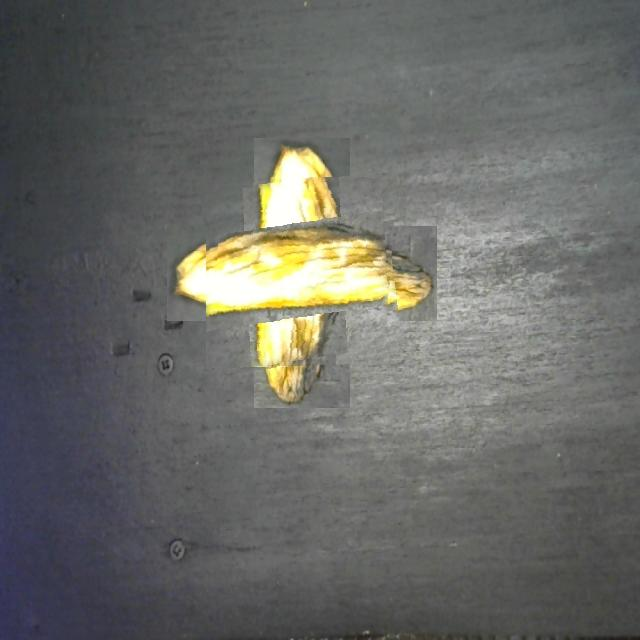biodegradable: (206, 177, 398, 369)
